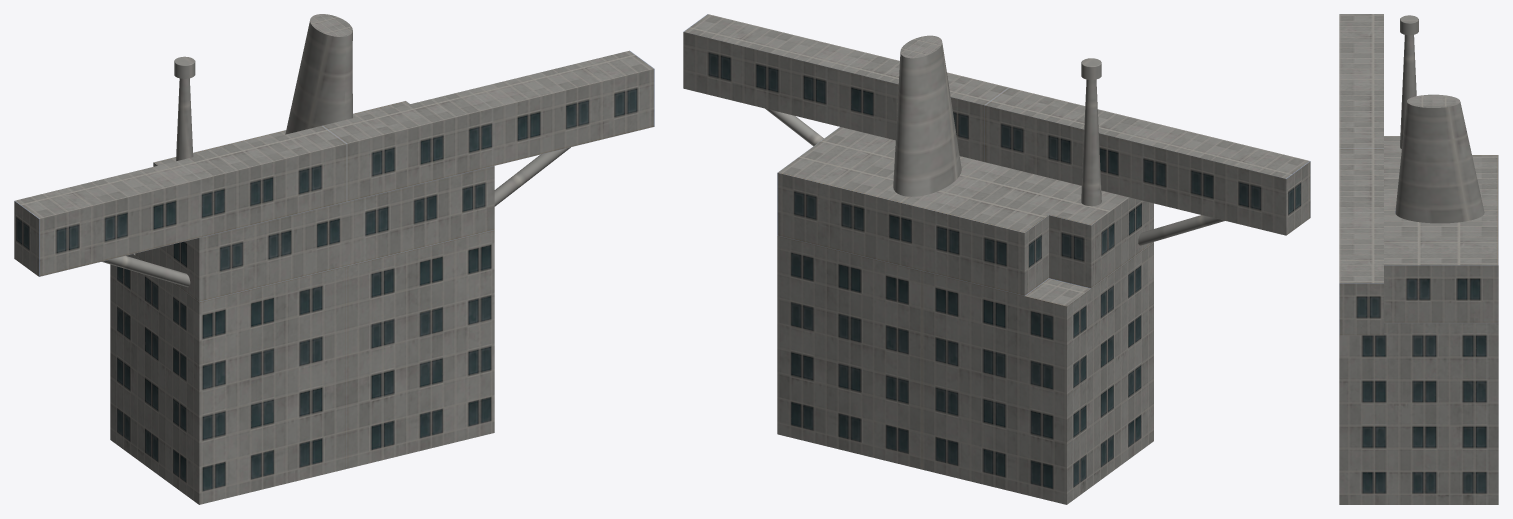
Rendered from living_quarters_glb.glb.
3 views of the same model, side by side, from view 1: azimuth 30°, elevation 25°; view 2: azimuth 150°, elevation 25°; view 3: azimuth 270°, elevation 25° (orthographic). The views are drawn at different scales.
Parts seen in each view (by area): view 1: living_quarters; view 2: living_quarters; view 3: living_quarters.
Part boxes in pixels (x1,y1,x2,y2): living_quarters: [14, 14, 654, 504]; living_quarters: [683, 14, 1310, 504]; living_quarters: [1339, 14, 1498, 504].
Bounding box in the file's own units: 5 × 3.18 × 1.25.
1 material, 1 textured.
